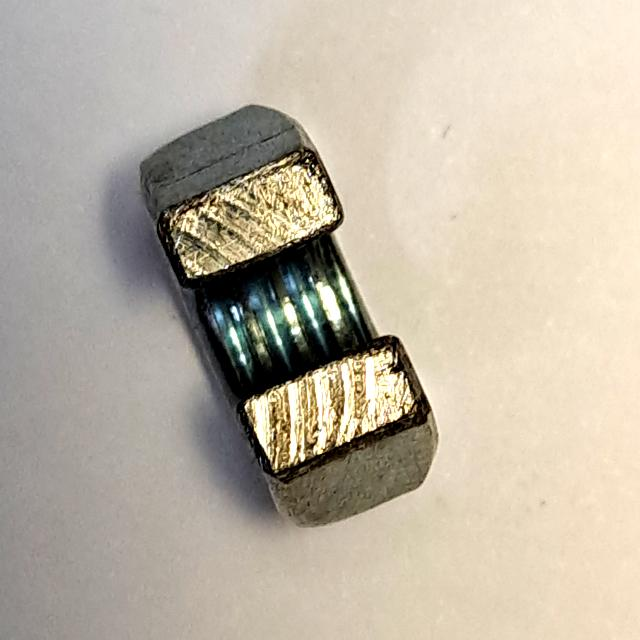Side-Fracture: (123, 84, 452, 547)
